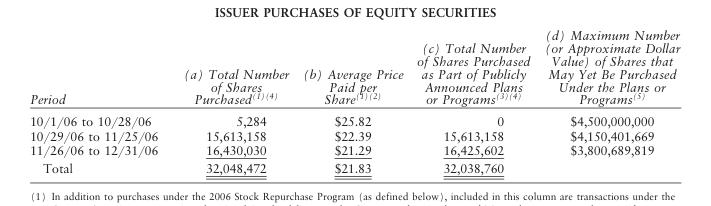table: (29, 28, 679, 175)
table column: (536, 28, 679, 175), (29, 28, 169, 175), (409, 28, 536, 175), (169, 28, 294, 175), (294, 28, 409, 175)
table column header: (29, 28, 679, 111)
table row: (29, 28, 679, 111), (29, 111, 679, 129), (29, 143, 679, 159), (29, 159, 679, 175), (29, 129, 679, 143)
